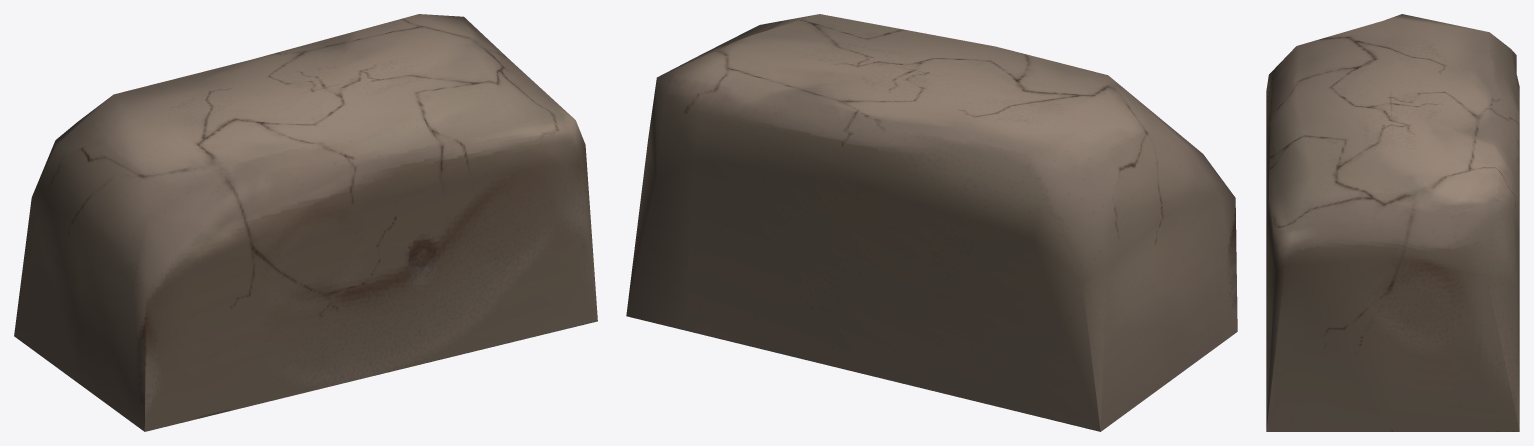
The model's file is 1x2_breakable_crack01.glb.
3 renders of one model, left to right at view 1: azimuth 30°, elevation 25°; view 2: azimuth 150°, elevation 25°; view 3: azimuth 270°, elevation 25°, orthographic. The views are drawn at different scales.
Parts seen in each view (by area): view 1: stone_crack01; view 2: stone_crack01; view 3: stone_crack01.
Boxes of the visible parts, x1=… form: stone_crack01: x1=14, y1=14, x2=597, y2=431; stone_crack01: x1=626, y1=14, x2=1237, y2=431; stone_crack01: x1=1266, y1=14, x2=1519, y2=431.
Size of the model in its own units: 1 by 0.5009 by 0.5.
1 material, 1 textured.
